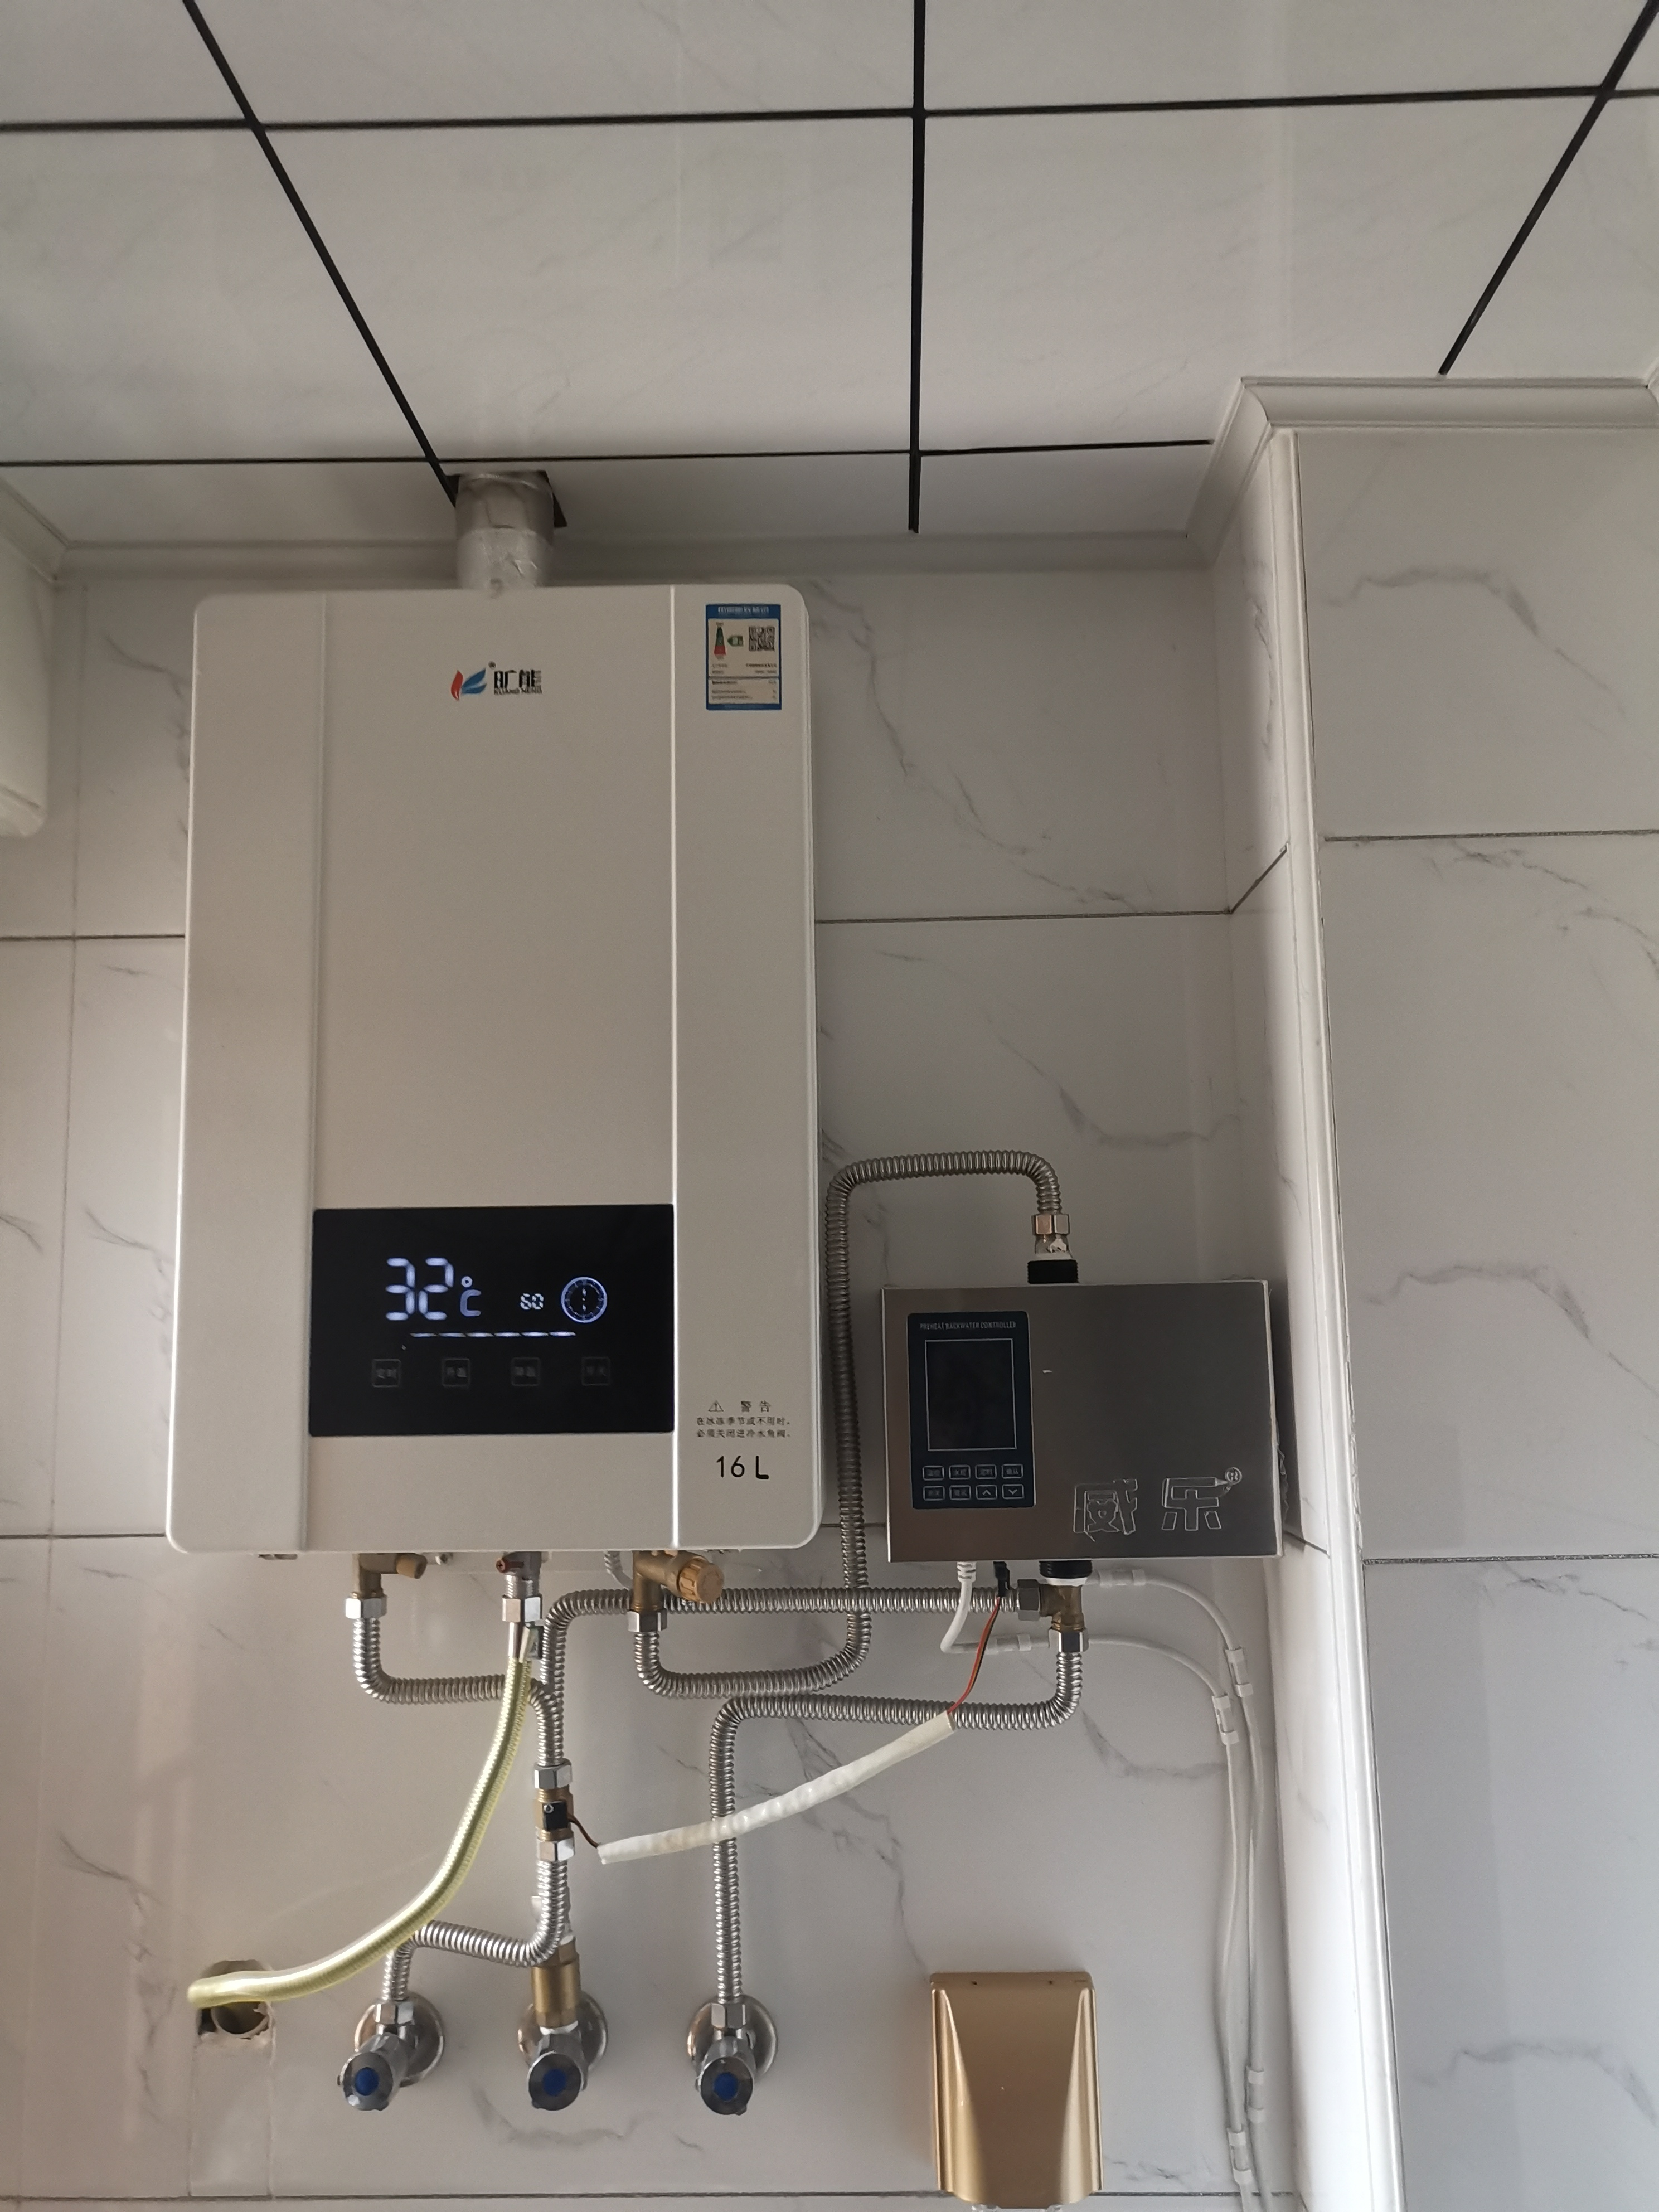loudou: (436, 651, 579, 709)
